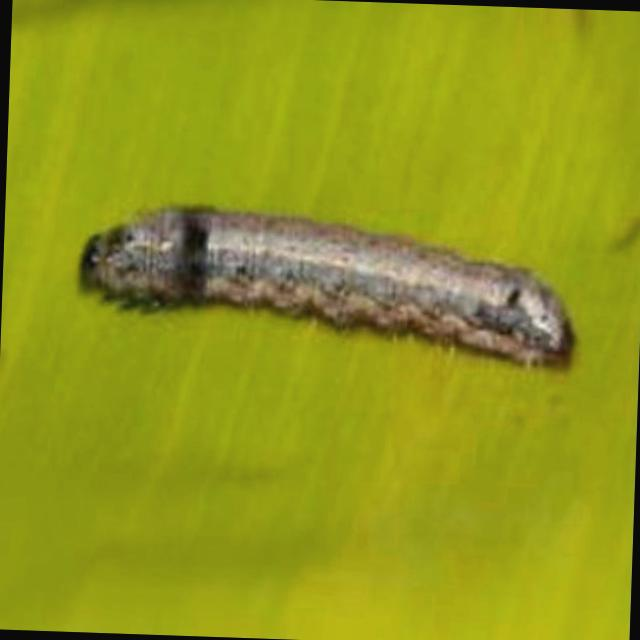Tobacco cutworm: (20, 114, 615, 454)
